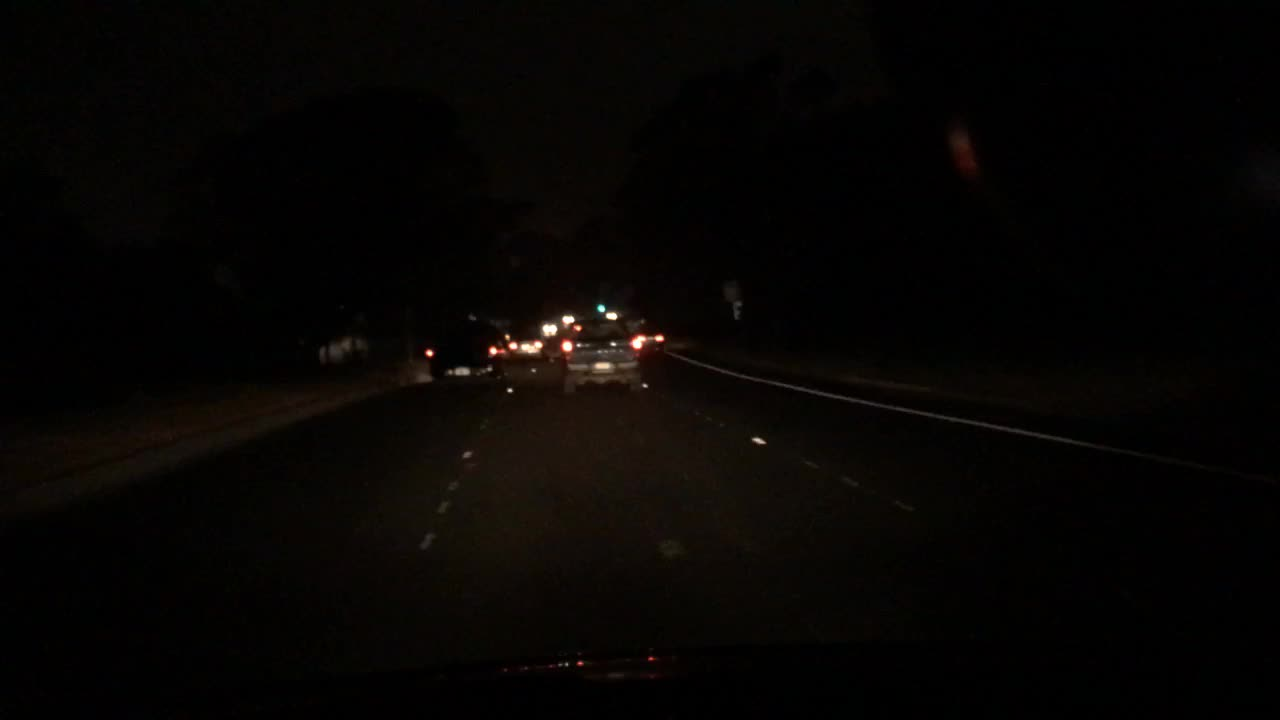car: (425, 314, 511, 385), (556, 319, 641, 390), (505, 326, 546, 360), (633, 326, 668, 351)
